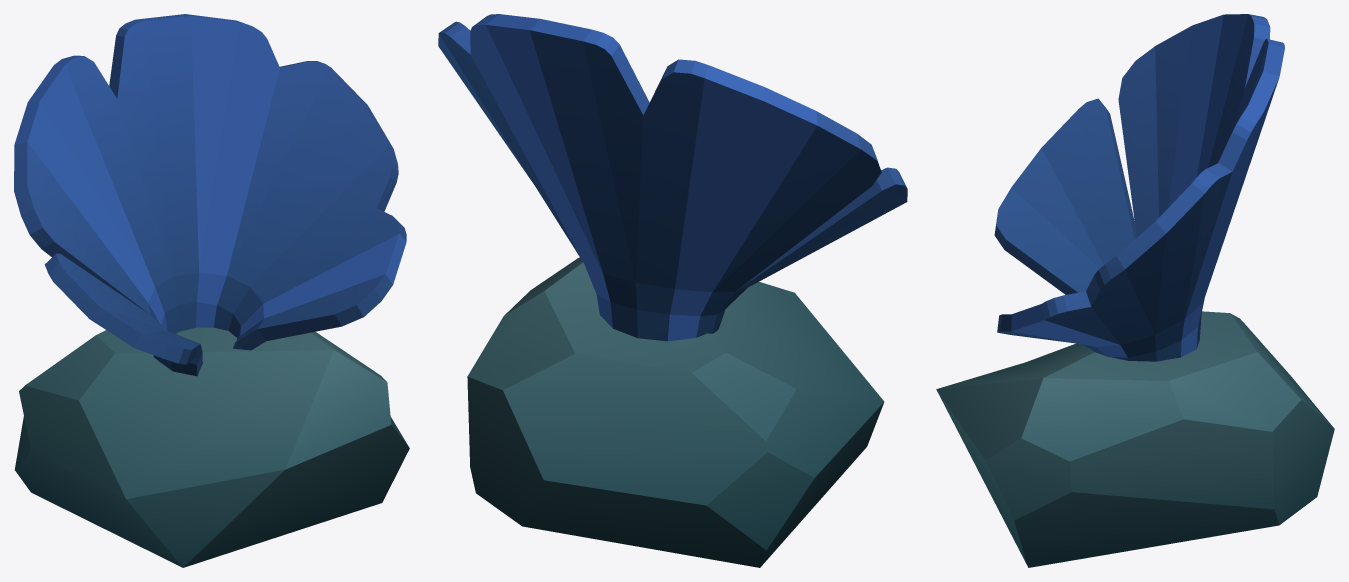
Rendered from coral_peafowl_blue_2.fbx.
3 renders of one model, left to right at view 1: azimuth 30°, elevation 25°; view 2: azimuth 150°, elevation 25°; view 3: azimuth 270°, elevation 25°, orthographic. The views are drawn at different scales.
Parts seen in each view (by area): view 1: coral_peafowl_blue_2; view 2: coral_peafowl_blue_2; view 3: coral_peafowl_blue_2.
Boxes of the visible parts, x1,y1,x2,y2 form: coral_peafowl_blue_2: (14,14,409,567); coral_peafowl_blue_2: (438,14,907,567); coral_peafowl_blue_2: (936,14,1334,567).
Bounding box in the file's own units: 0.6746 × 0.7632 × 0.601.
